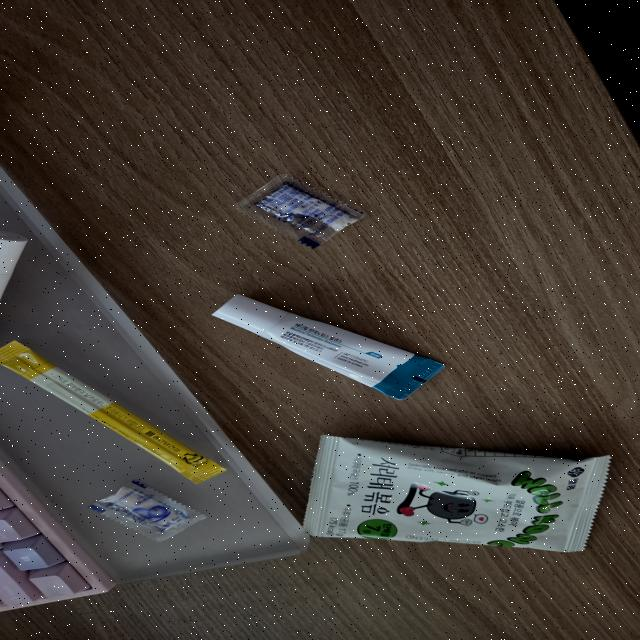lacto: (0, 313, 228, 486)
lib: (211, 286, 449, 403)
salt: (231, 169, 372, 251), (87, 480, 207, 542)
